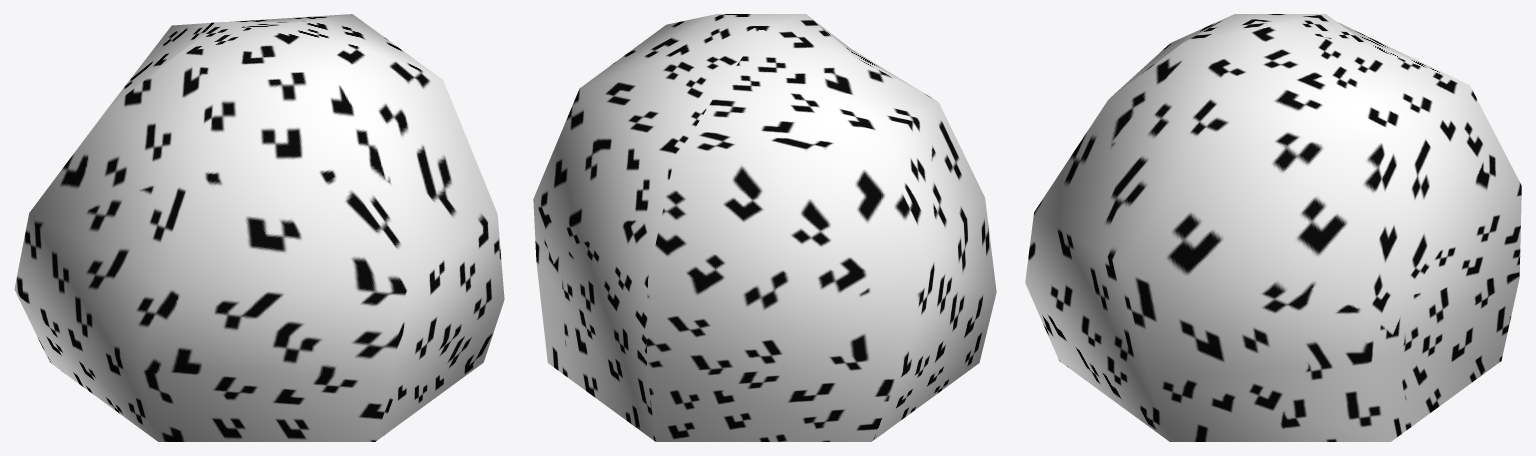
Rendered from Bush3.fbx.
3 renders of one model, left to right at view 1: azimuth 30°, elevation 25°; view 2: azimuth 150°, elevation 25°; view 3: azimuth 270°, elevation 25°, orthographic. The views are drawn at different scales.
Visible parts, largest first — view 1: Sphere; view 2: Sphere; view 3: Sphere.
Part boxes in pixels (left/top/right/bottom): Sphere: left=14, top=14, right=504, bottom=441; Sphere: left=533, top=14, right=996, bottom=441; Sphere: left=1025, top=14, right=1521, bottom=441.
Bounding box in the file's own units: 192 × 155 × 208.
